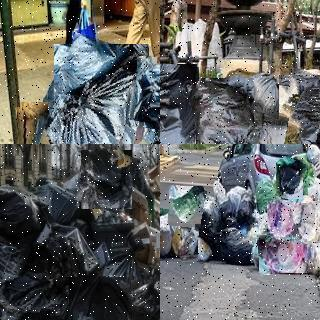Garbage: (45, 38, 157, 144), (18, 99, 123, 144), (191, 75, 258, 144), (0, 243, 65, 313), (77, 147, 136, 212), (234, 65, 297, 123), (62, 273, 136, 320), (273, 71, 320, 144), (0, 183, 52, 244), (160, 63, 198, 144), (244, 114, 314, 144), (160, 208, 198, 261), (258, 234, 308, 274), (135, 56, 160, 129), (213, 221, 257, 262), (0, 277, 40, 320), (216, 183, 258, 222), (193, 191, 228, 234), (169, 186, 204, 227), (265, 200, 299, 242), (273, 158, 306, 201), (130, 279, 160, 320), (293, 201, 320, 244), (303, 172, 320, 212)
